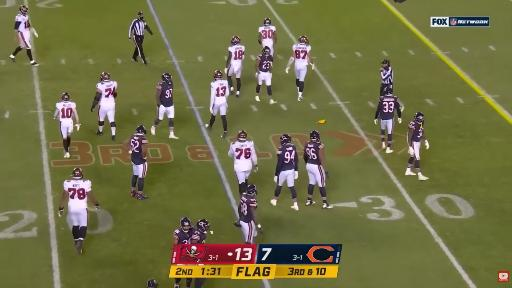Helmet: (197, 219, 209, 233), (180, 217, 191, 231), (71, 167, 83, 179), (246, 184, 257, 195), (414, 112, 424, 124), (237, 130, 247, 141), (280, 135, 291, 145), (310, 130, 320, 141), (162, 73, 172, 83), (231, 36, 241, 45), (100, 72, 110, 81), (136, 126, 146, 135), (19, 5, 28, 15), (384, 86, 393, 95), (299, 36, 309, 44), (61, 93, 70, 101), (214, 71, 223, 79), (263, 18, 271, 26), (263, 47, 270, 55), (234, 221, 241, 227)
Jersey: (229, 141, 257, 171), (64, 180, 91, 208), (275, 144, 298, 175), (377, 95, 399, 119), (96, 81, 117, 106), (130, 134, 147, 164), (239, 194, 257, 222), (211, 80, 229, 106), (304, 142, 323, 165), (56, 102, 76, 123), (157, 82, 173, 107), (293, 44, 311, 66), (228, 44, 245, 66), (259, 26, 275, 47), (174, 227, 194, 243), (409, 121, 424, 142), (257, 54, 273, 72), (15, 14, 30, 31), (191, 230, 206, 243)
Player: (59, 168, 99, 254), (304, 131, 332, 208), (271, 135, 298, 210), (228, 131, 257, 195), (286, 36, 314, 100), (151, 73, 178, 139), (91, 72, 117, 139), (375, 87, 401, 153), (10, 6, 38, 66), (125, 126, 147, 199), (54, 93, 79, 157), (235, 184, 262, 243), (406, 112, 429, 180), (206, 71, 229, 138), (225, 36, 245, 97), (256, 47, 276, 104), (258, 18, 277, 56), (174, 217, 194, 244), (191, 219, 209, 243)
